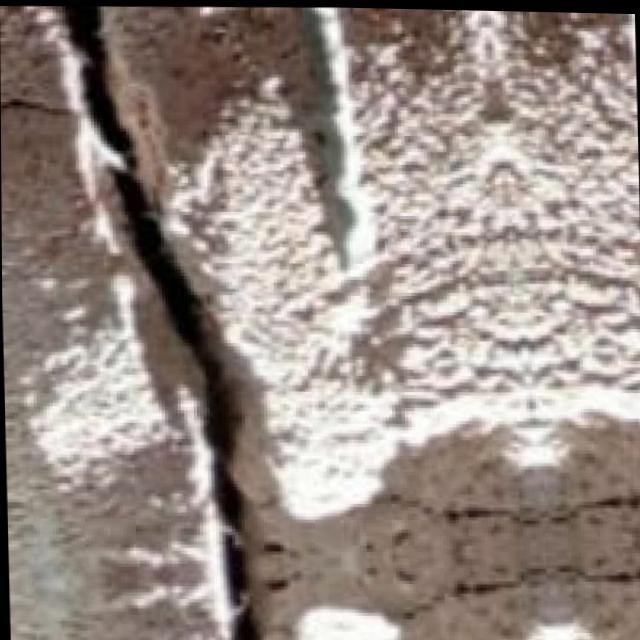Crack: (36, 2, 289, 640)
